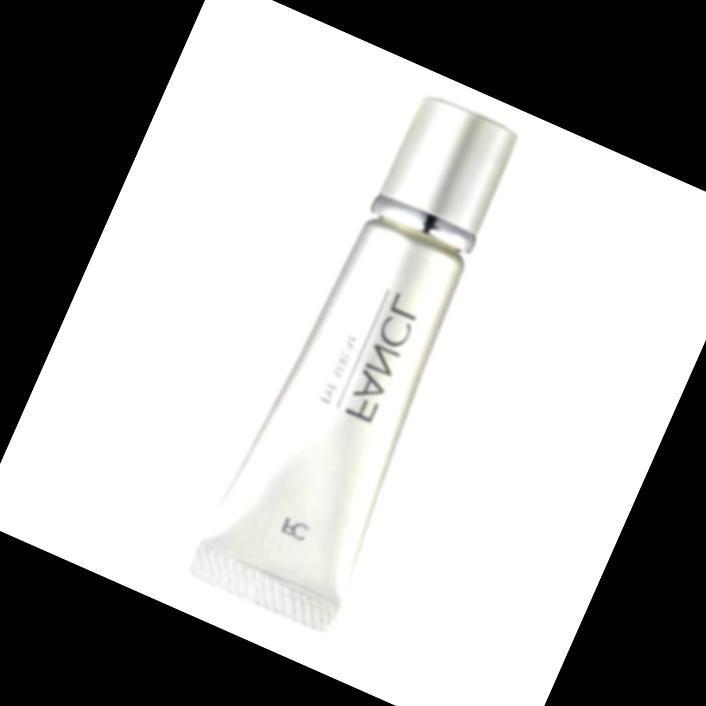cosmetic: (185, 80, 536, 635)
